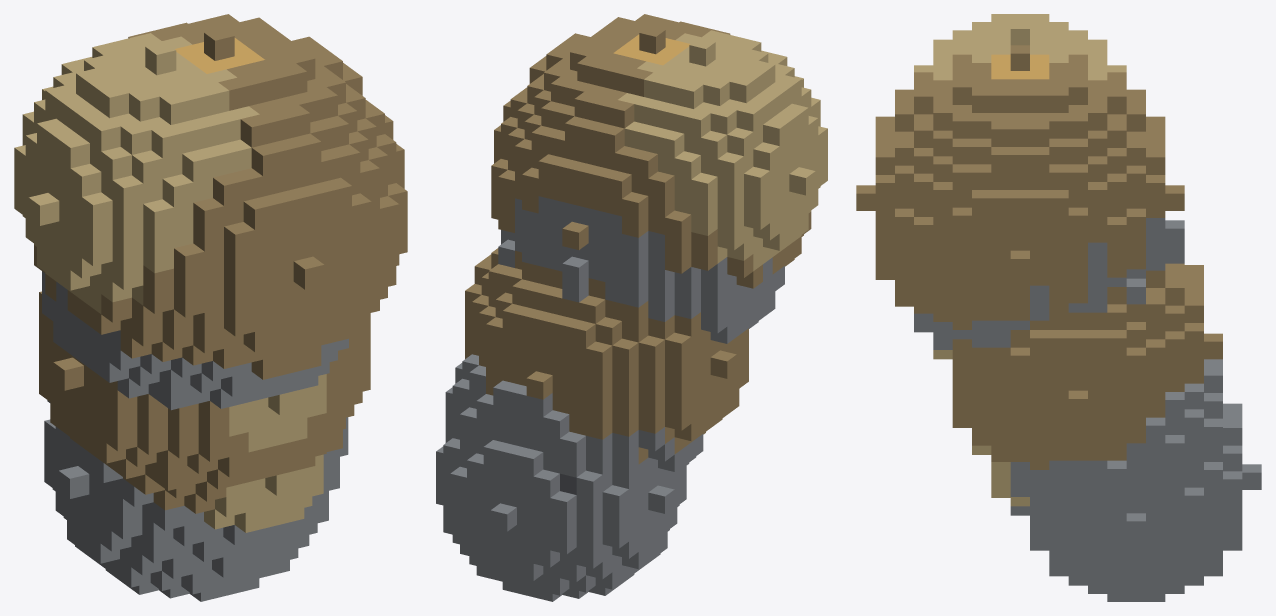
File: lb_shin.glb
3 views of the same model, side by side, from view 1: azimuth 30°, elevation 25°; view 2: azimuth 150°, elevation 25°; view 3: azimuth 270°, elevation 25° (orthographic). The views are drawn at different scales.
Size of the model in its own units: 18 by 30 by 21.
